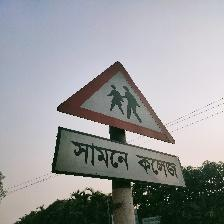College-in-front: (49, 43, 193, 197)
